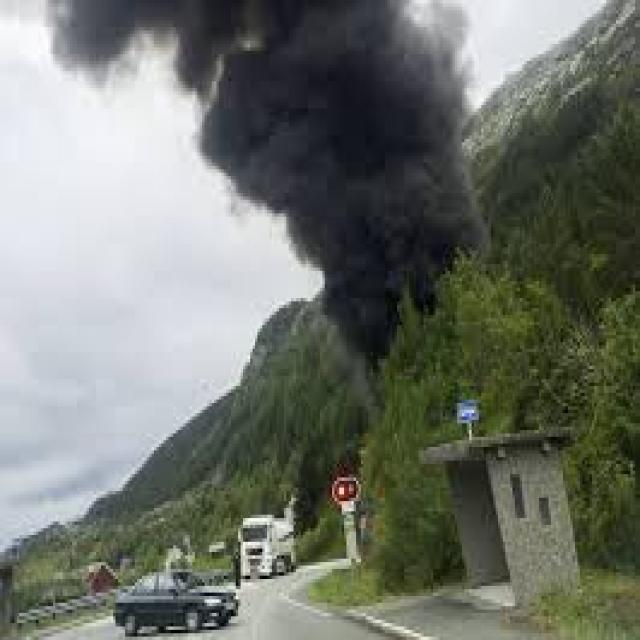Smoke: (49, 0, 494, 381)
